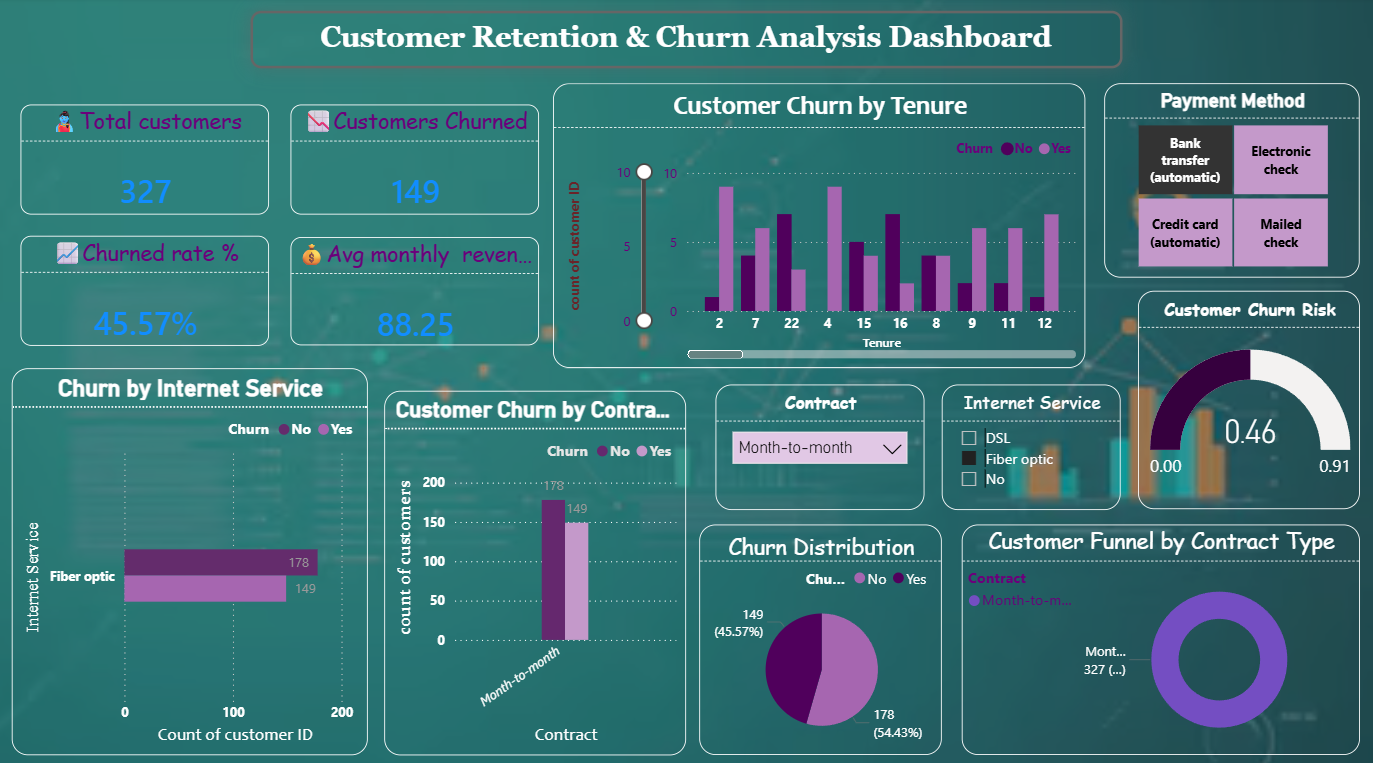

This screenshot's page, from the dashboard's own definition file:
{"tool":"powerbi","page":{"name":"Page 1","canvas":[1280,720],"ordinal":0},"visuals":[{"type":"cardVisual","title":"🧞♀️Total customers","fields":{"Data":["Telco-Customer-Churn.Total Customers"]},"box":[21.1,100,231.1,102.2],"z":0},{"type":"cardVisual","title":"📉Customers Churned","fields":{"Data":["Telco-Customer-Churn.Churned Customers"]},"box":[272.2,100,231.1,102.2],"z":1000},{"type":"cardVisual","title":"📈Churned rate %","fields":{"Data":["Telco-Customer-Churn.Churn Rate"]},"box":[21.1,222.2,231.1,102.2],"z":2000},{"type":"cardVisual","title":"💰Avg monthly  revenue","fields":{"Data":["Telco-Customer-Churn.Avg Monthly Charges"]},"box":[272.2,223.3,231.1,101.1],"z":3000},{"type":"clusteredColumnChart","title":"Customer Churn by Contract Type","fields":{"Category":["Telco-Customer-Churn.Contract"],"Y":["CountNonNull(Telco-Customer-Churn.customerID)"],"Series":["Telco-Customer-Churn.Churn"]},"box":[358.9,366.7,281.1,338.9],"z":4000},{"type":"clusteredBarChart","title":"Churn by Internet Service","fields":{"Series":["Telco-Customer-Churn.Churn"],"Category":["Telco-Customer-Churn.InternetService"],"Y":["CountNonNull(Telco-Customer-Churn.customerID)"]},"box":[13.3,345.6,331.1,360],"z":5000},{"type":"clusteredColumnChart","title":"Customer Churn by Tenure","fields":{"Category":["Telco-Customer-Churn.tenure"],"Y":["CountNonNull(Telco-Customer-Churn.customerID)"],"Series":["Telco-Customer-Churn.Churn"]},"box":[516.7,80,495.6,264.4],"z":6000},{"type":"pieChart","title":"Churn Distribution","fields":{"Category":["Telco-Customer-Churn.Churn"],"Y":["CountNonNull(Telco-Customer-Churn.customerID)"]},"box":[652.2,491.1,225.6,214.4],"z":7000},{"type":"slicer","title":"Contract","fields":{"Values":["Telco-Customer-Churn.Contract"]},"box":[667.8,360,194.4,116.7],"z":8000},{"type":"slicer","title":"Payment Method","fields":{"Values":["Telco-Customer-Churn.PaymentMethod"]},"box":[1028.9,80,237.8,181.1],"z":9000},{"type":"slicer","title":"Internet Service","fields":{"Values":["Telco-Customer-Churn.InternetService"]},"box":[877.8,360,166.7,116.7],"z":10000},{"type":"textbox","box":[234.4,12.2,811.1,53.3],"z":11000},{"type":"gauge","title":"Customer Churn Risk","fields":{"Y":["Telco-Customer-Churn.Churn Rate"]},"box":[1060,273.3,206.7,203.3],"z":12000},{"type":"donutChart","title":"Customer Funnel by Contract Type","fields":{"Category":["Telco-Customer-Churn.Contract"],"Y":["CountNonNull(Telco-Customer-Churn.customerID)"]},"box":[896.7,491.1,370,214.4],"z":13000}]}

Visuals, with their boxes in screenshot pixels (x1, y1, x2, y2), scaled from the page's 1280x720 canvas onto the 1373x763 screenshot:
"🧞♀️Total customers" cardVisual: detection(23, 106, 271, 214)
"📉Customers Churned" cardVisual: detection(292, 106, 540, 214)
"📈Churned rate %" cardVisual: detection(23, 235, 271, 344)
"💰Avg monthly  revenue" cardVisual: detection(292, 237, 540, 344)
"Customer Churn by Contract Type" clusteredColumnChart: detection(385, 389, 686, 748)
"Churn by Internet Service" clusteredBarChart: detection(14, 366, 369, 748)
"Customer Churn by Tenure" clusteredColumnChart: detection(554, 85, 1086, 365)
"Churn Distribution" pieChart: detection(700, 520, 942, 748)
"Contract" slicer: detection(716, 382, 925, 505)
"Payment Method" slicer: detection(1104, 85, 1359, 277)
"Internet Service" slicer: detection(942, 382, 1120, 505)
textbox: detection(251, 13, 1121, 69)
"Customer Churn Risk" gauge: detection(1137, 290, 1359, 505)
"Customer Funnel by Contract Type" donutChart: detection(962, 520, 1359, 748)
